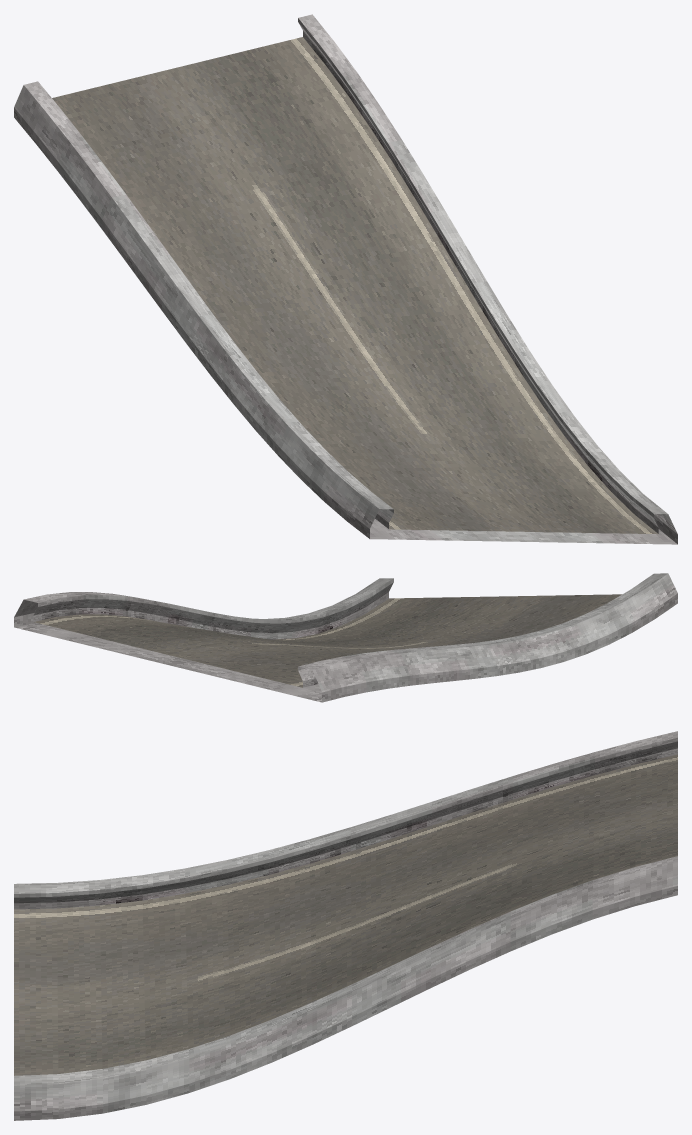
Rendered from road-Straight-HalfBankedRight-BiSlopeUp-Up3-Center-Size2.glb.
3 views of the same model, one above another, from view 1: azimuth 30°, elevation 25°; view 2: azimuth 150°, elevation 25°; view 3: azimuth 270°, elevation 25° (orthographic). The views are drawn at different scales.
Parts seen in each view (by area): view 1: road-Straight-HalfBankedRight-BiSlopeUp-Up3-Center-Size2; view 2: road-Straight-HalfBankedRight-BiSlopeUp-Up3-Center-Size2; view 3: road-Straight-HalfBankedRight-BiSlopeUp-Up3-Center-Size2.
Boxes of the visible parts, x1=… form: road-Straight-HalfBankedRight-BiSlopeUp-Up3-Center-Size2: x1=14, y1=14, x2=677, y2=544; road-Straight-HalfBankedRight-BiSlopeUp-Up3-Center-Size2: x1=14, y1=573, x2=677, y2=702; road-Straight-HalfBankedRight-BiSlopeUp-Up3-Center-Size2: x1=14, y1=731, x2=677, y2=1120.
Size of the model in its own units: 1 by 0.8437 by 2.
Materials: 2 (2 with a texture image).
